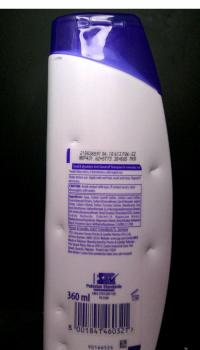dent_unacceptable: (53, 304, 69, 318), (148, 163, 162, 178), (145, 243, 158, 257), (53, 222, 66, 235), (67, 136, 82, 147), (56, 340, 72, 350), (51, 55, 64, 64)
